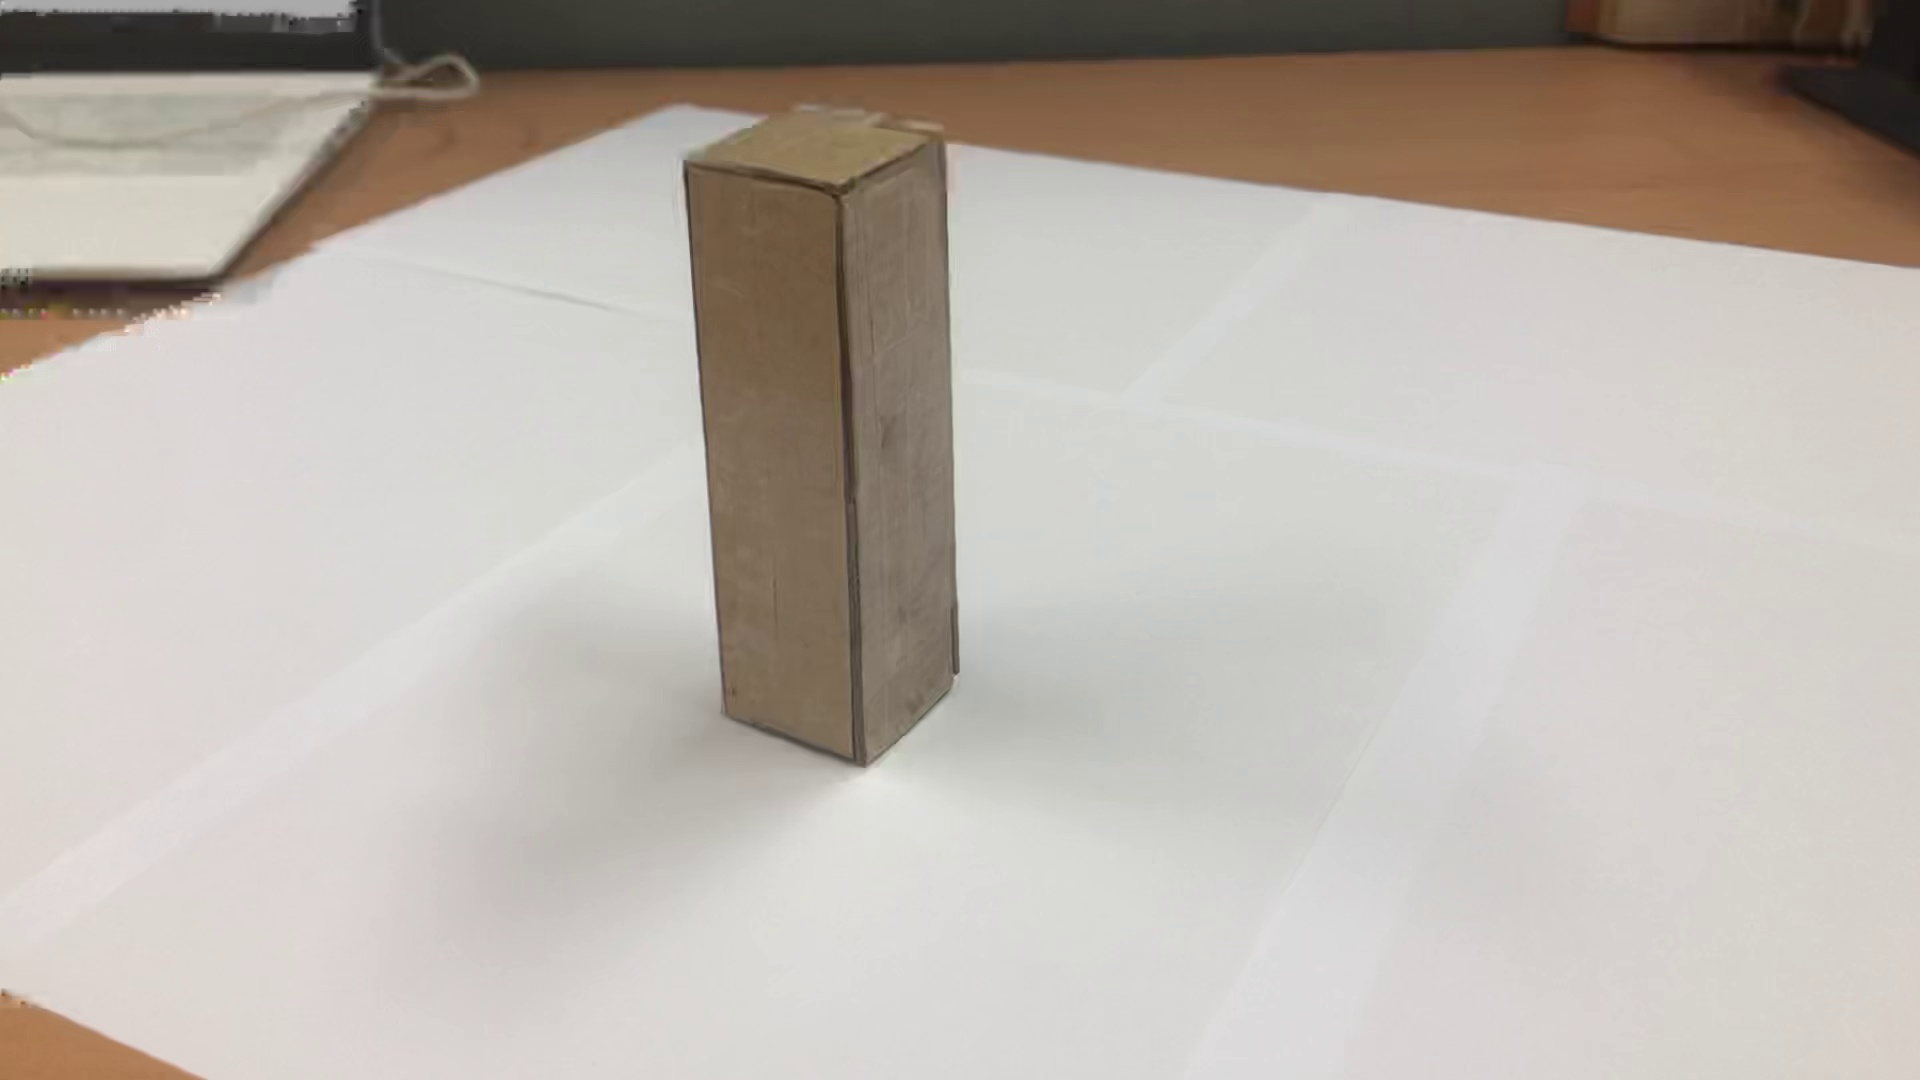box: (673, 73, 1013, 785)
